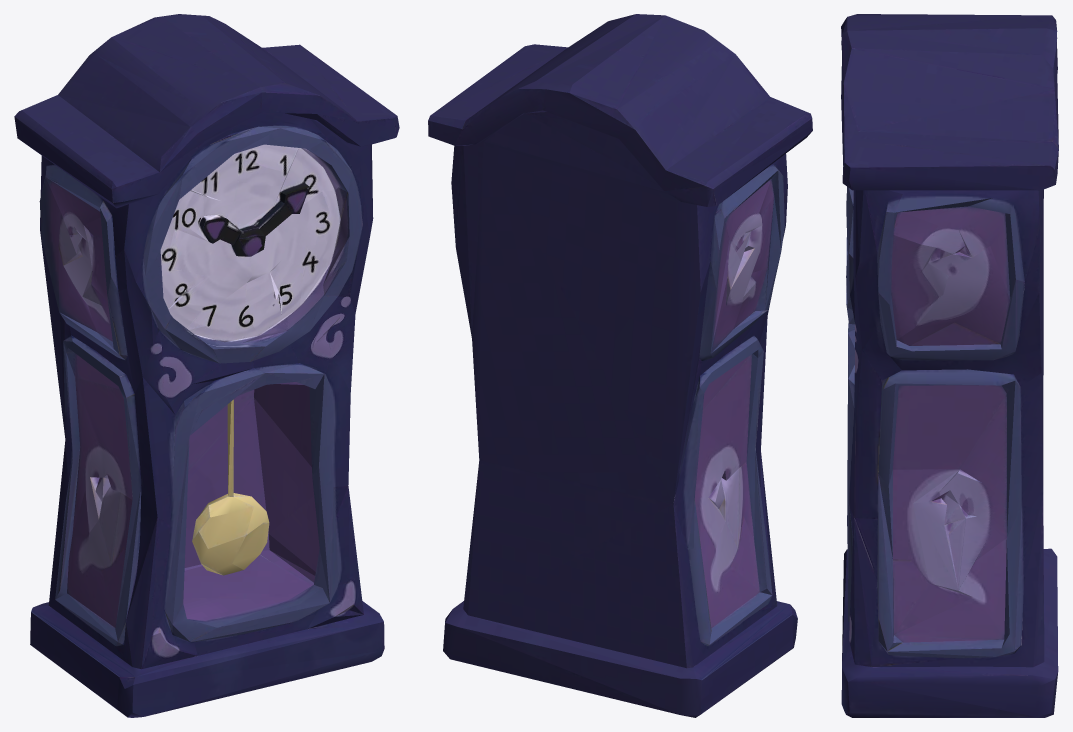
The model's file is grandfather_clock.glb.
3 renders of one model, left to right at view 1: azimuth 30°, elevation 25°; view 2: azimuth 150°, elevation 25°; view 3: azimuth 270°, elevation 25°, orthographic. The views are drawn at different scales.
Size of the model in its own units: 0.9473 by 1.9 by 0.5958.
Materials: 1 (1 with a texture image).
